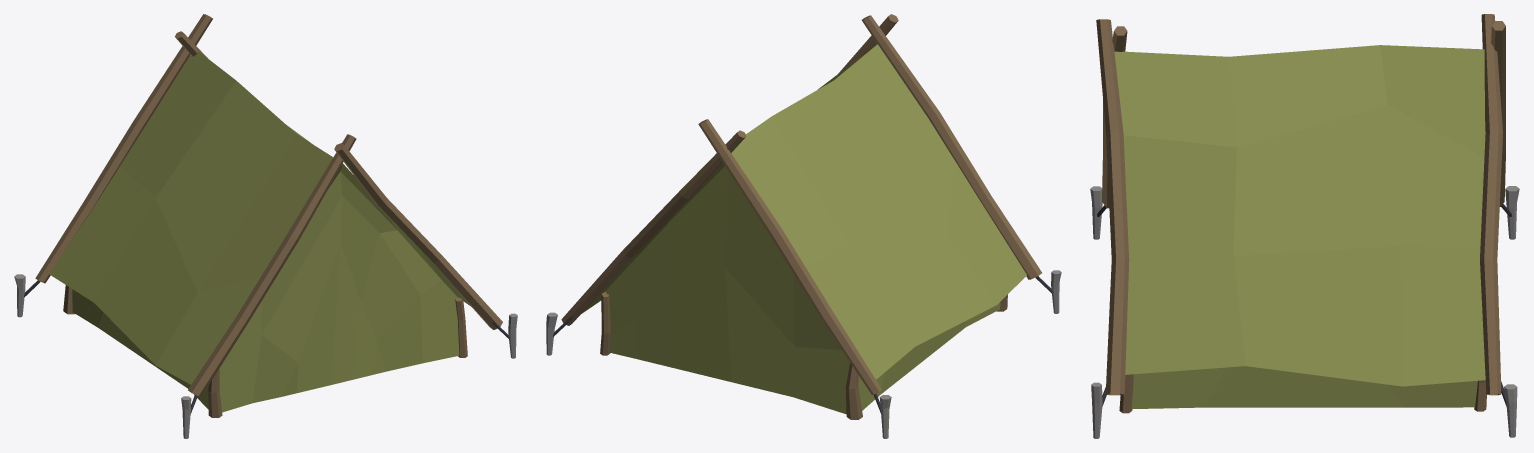
File: tent_5.glb
3 renders of one model, left to right at view 1: azimuth 30°, elevation 25°; view 2: azimuth 150°, elevation 25°; view 3: azimuth 270°, elevation 25°, orthographic. The views are drawn at different scales.
Visible parts, largest first — view 1: tent_5; view 2: tent_5; view 3: tent_5.
Boxes of the visible parts, <box> form: tent_5: <box>14,14,517,438</box>; tent_5: <box>546,14,1061,438</box>; tent_5: <box>1090,14,1519,438</box>.
Size of the model in its own units: 2.36 by 1.76 by 2.09.
Materials: 1 (1 with a texture image).
